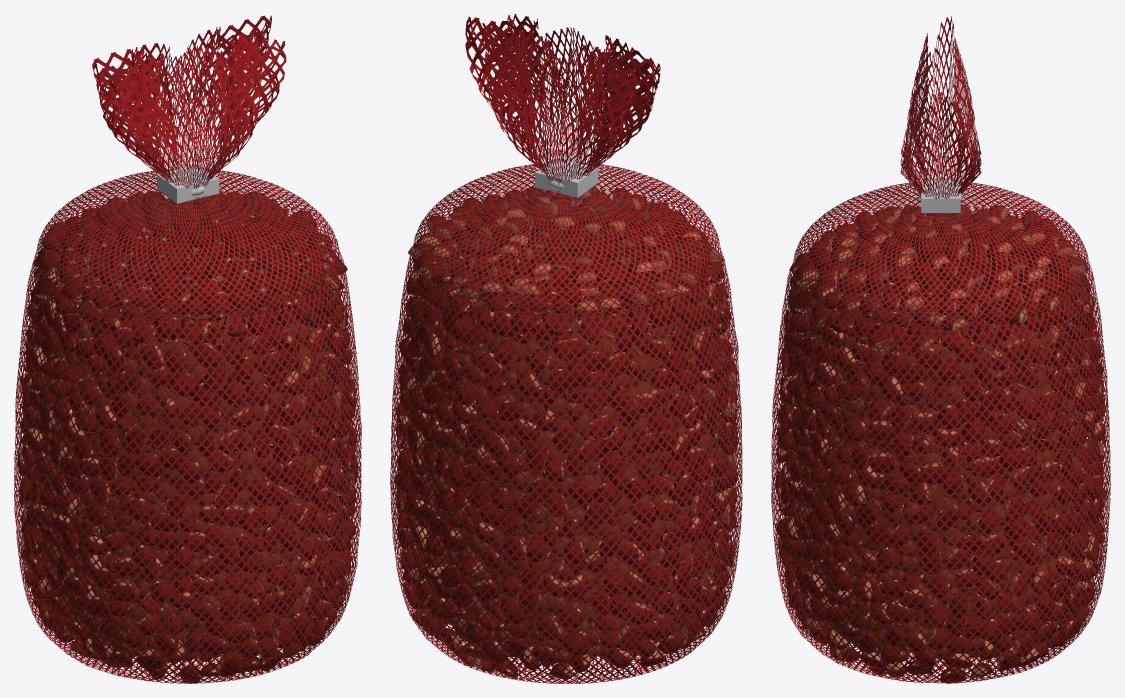
The model's file is paket-25kg.glb.
3 views of the same model, side by side, from view 1: azimuth 30°, elevation 25°; view 2: azimuth 150°, elevation 25°; view 3: azimuth 270°, elevation 25° (orthographic). The views are drawn at different scales.
Parts seen in each view (by area): view 1: File ağı, shell, kestane-ic-kat, malzeme-3, kestane-cekirdek; view 2: File ağı, shell, kestane-ic-kat, kestane-cekirdek, malzeme-3; view 3: File ağı, shell, kestane-ic-kat, kestane-cekirdek, malzeme-3.
Boxes of the visible parts, <box> form: File ağı: <box>14,15,361,683</box>; shell: <box>17,190,358,683</box>; kestane-ic-kat: <box>37,249,340,661</box>; malzeme-3: <box>157,164,219,203</box>; kestane-cekirdek: <box>56,310,321,647</box>; File ağı: <box>390,14,742,683</box>; shell: <box>394,186,738,679</box>; kestane-ic-kat: <box>415,249,720,663</box>; kestane-cekirdek: <box>433,306,694,647</box>; malzeme-3: <box>535,158,598,197</box>; File ağı: <box>771,16,1110,683</box>; shell: <box>775,204,1106,683</box>; kestane-ic-kat: <box>791,269,1087,662</box>; kestane-cekirdek: <box>816,283,1062,651</box>; malzeme-3: <box>919,178,962,212</box>.
Size of the model in its own units: 0.3686 by 0.6906 by 0.368.
5 materials, 2 textured.
